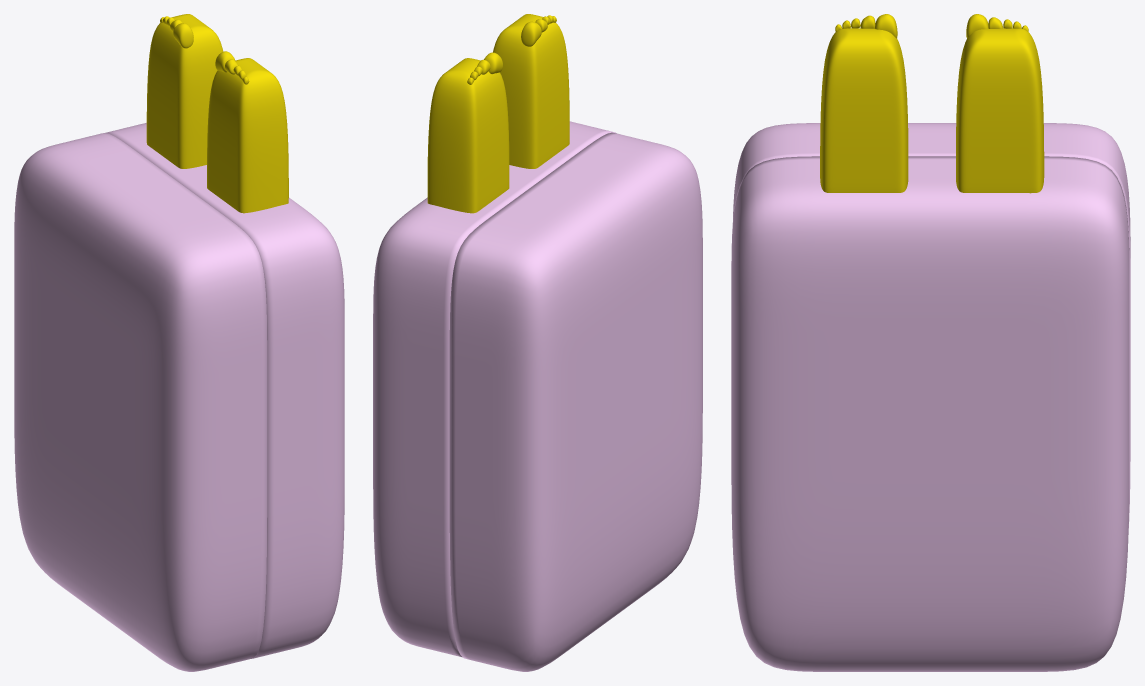
File: VelikaKutijaSredjeno.fbx
The picture shows the model from 3 angles, left to right: view 1: azimuth 30°, elevation 25°; view 2: azimuth 150°, elevation 25°; view 3: azimuth 270°, elevation 25°; orthographic projection. The views are drawn at different scales.
Parts seen in each view (by area): view 1: VelikaKutijaR.001, VelikaKutijaL.001; view 2: VelikaKutijaR.001, VelikaKutijaL.001; view 3: VelikaKutijaL.001, VelikaKutijaR.001.
Boxes of the visible parts, left/top/right/bottom form: VelikaKutijaR.001: left=14, top=133, right=267, bottom=671; VelikaKutijaL.001: left=105, top=14, right=344, bottom=658; VelikaKutijaR.001: left=449, top=132, right=702, bottom=671; VelikaKutijaL.001: left=373, top=14, right=615, bottom=657; VelikaKutijaL.001: left=731, top=14, right=1129, bottom=671; VelikaKutijaR.001: left=733, top=123, right=1130, bottom=527.
Size of the model in its own units: 0.9411 by 2.84 by 1.6.
